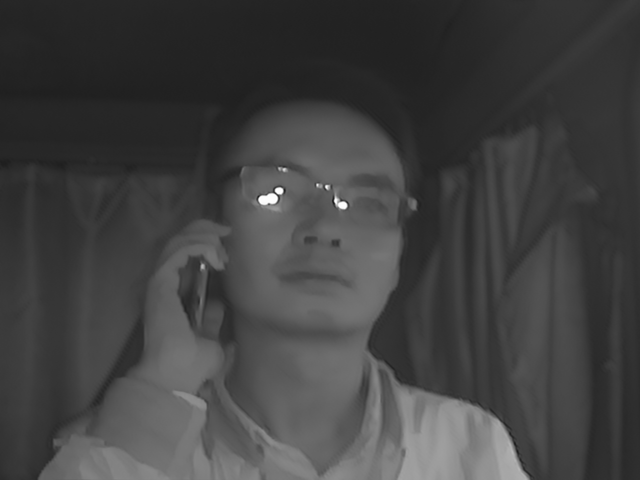hand: (135, 215, 238, 382)
